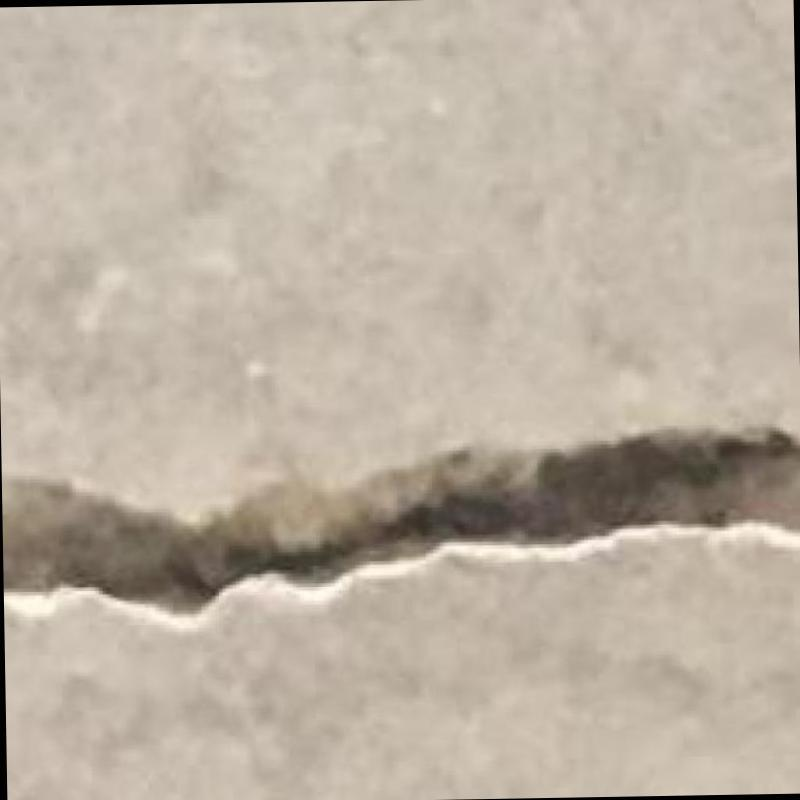crack: (1, 428, 800, 611)
